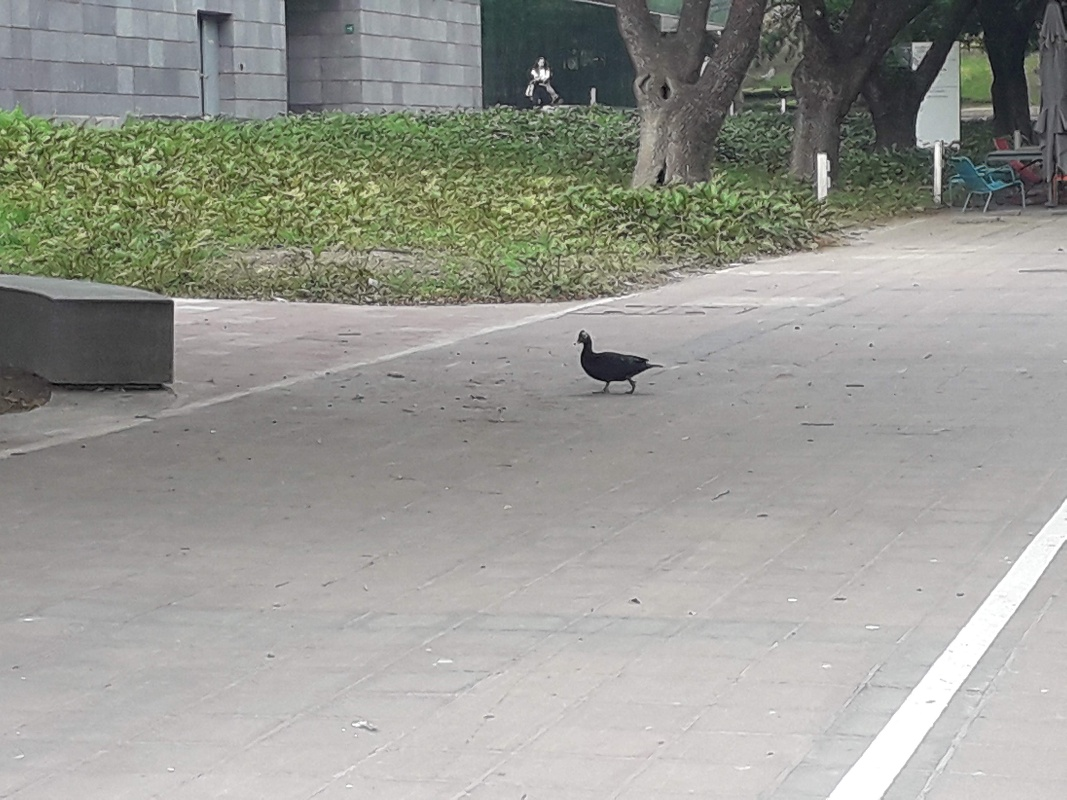pato: (577, 328, 652, 398)
